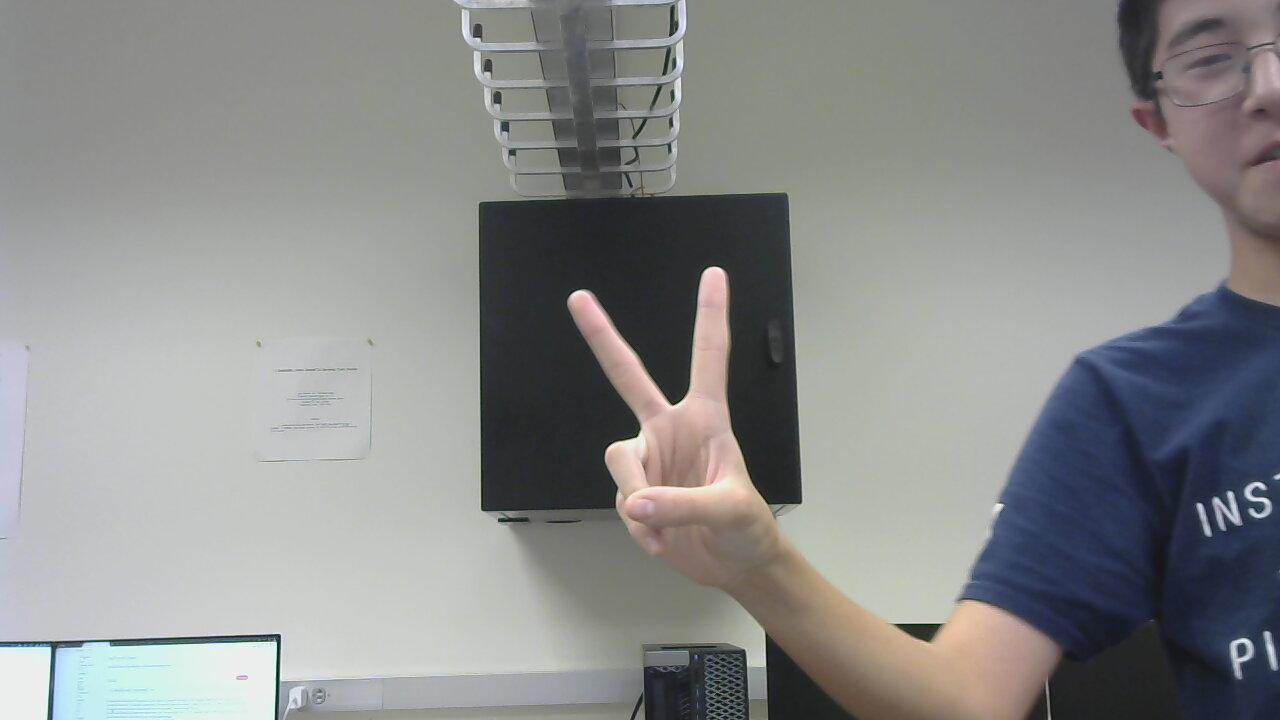peace: (543, 269, 783, 595)
